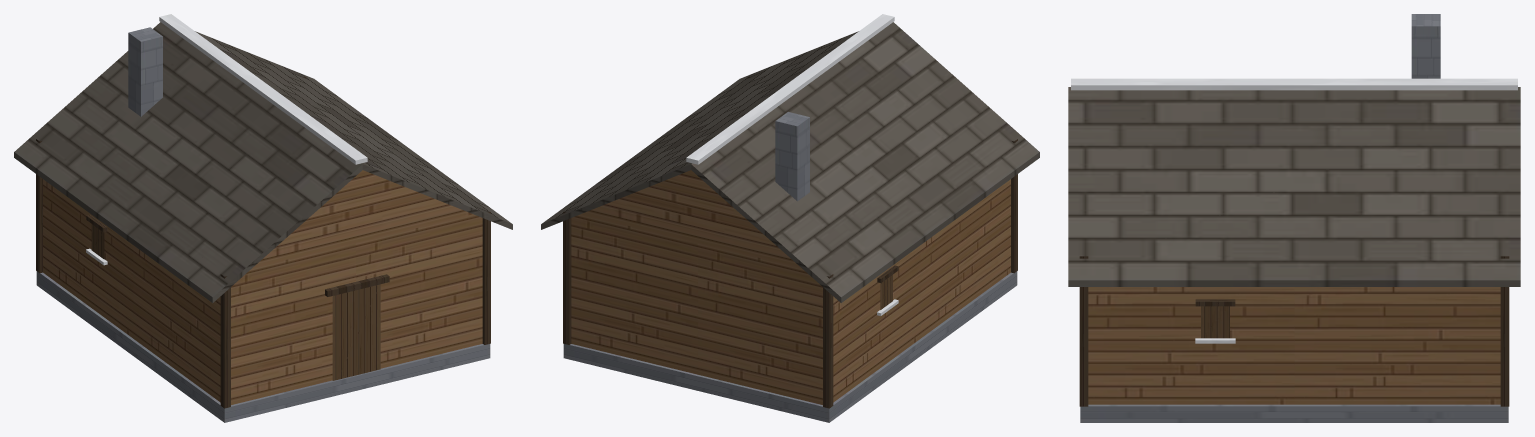
File: ae_snow_wood_large_barn_lod1.glb
The picture shows the model from 3 angles, left to right: view 1: azimuth 30°, elevation 25°; view 2: azimuth 150°, elevation 25°; view 3: azimuth 270°, elevation 25°; orthographic projection. The views are drawn at different scales.
Parts seen in each view (by area): view 1: ae_snow_wood_large_barn_lod1; view 2: ae_snow_wood_large_barn_lod1; view 3: ae_snow_wood_large_barn_lod1.
Boxes of the visible parts, bbox=[...] form: ae_snow_wood_large_barn_lod1: bbox=[14, 14, 512, 422]; ae_snow_wood_large_barn_lod1: bbox=[541, 14, 1039, 422]; ae_snow_wood_large_barn_lod1: bbox=[1068, 14, 1520, 422].
Bounding box in the file's own units: 7.5 × 6.2 × 8.6.
Materials: 1 (1 with a texture image).
